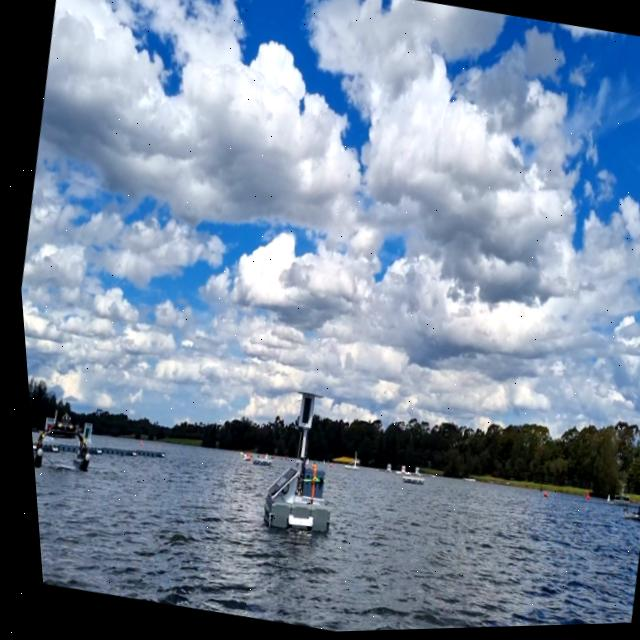led: (292, 397, 309, 429)
